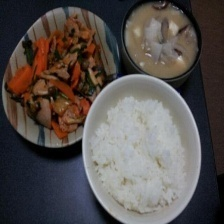sabzi: (3, 11, 112, 141)
